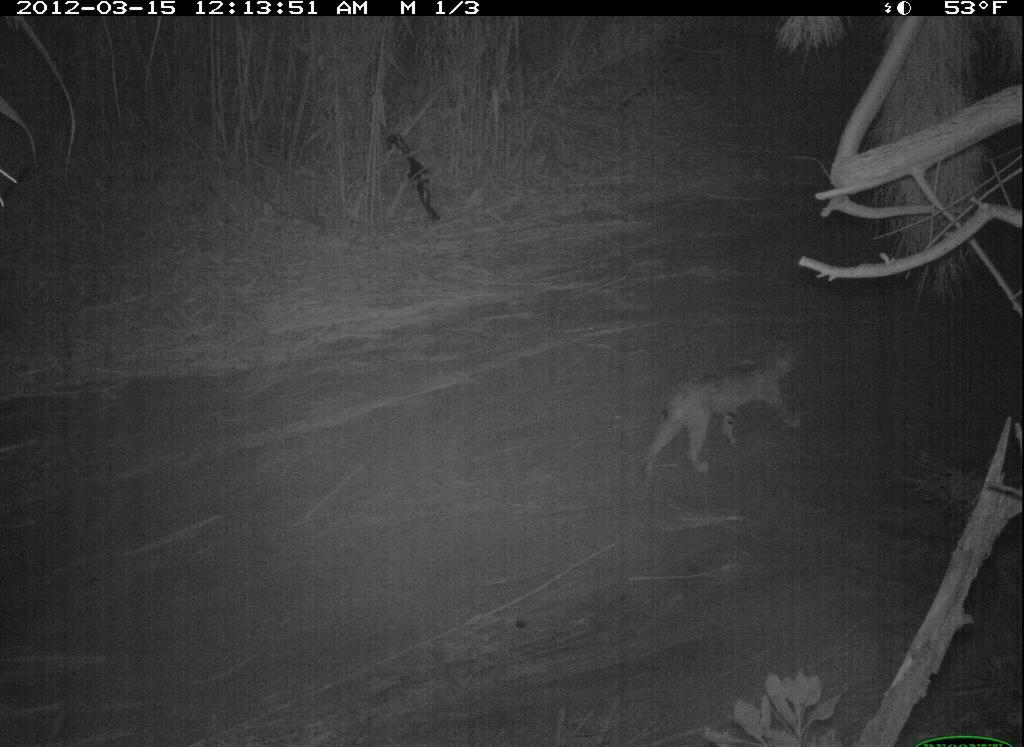bobcat: (634, 331, 815, 486)
